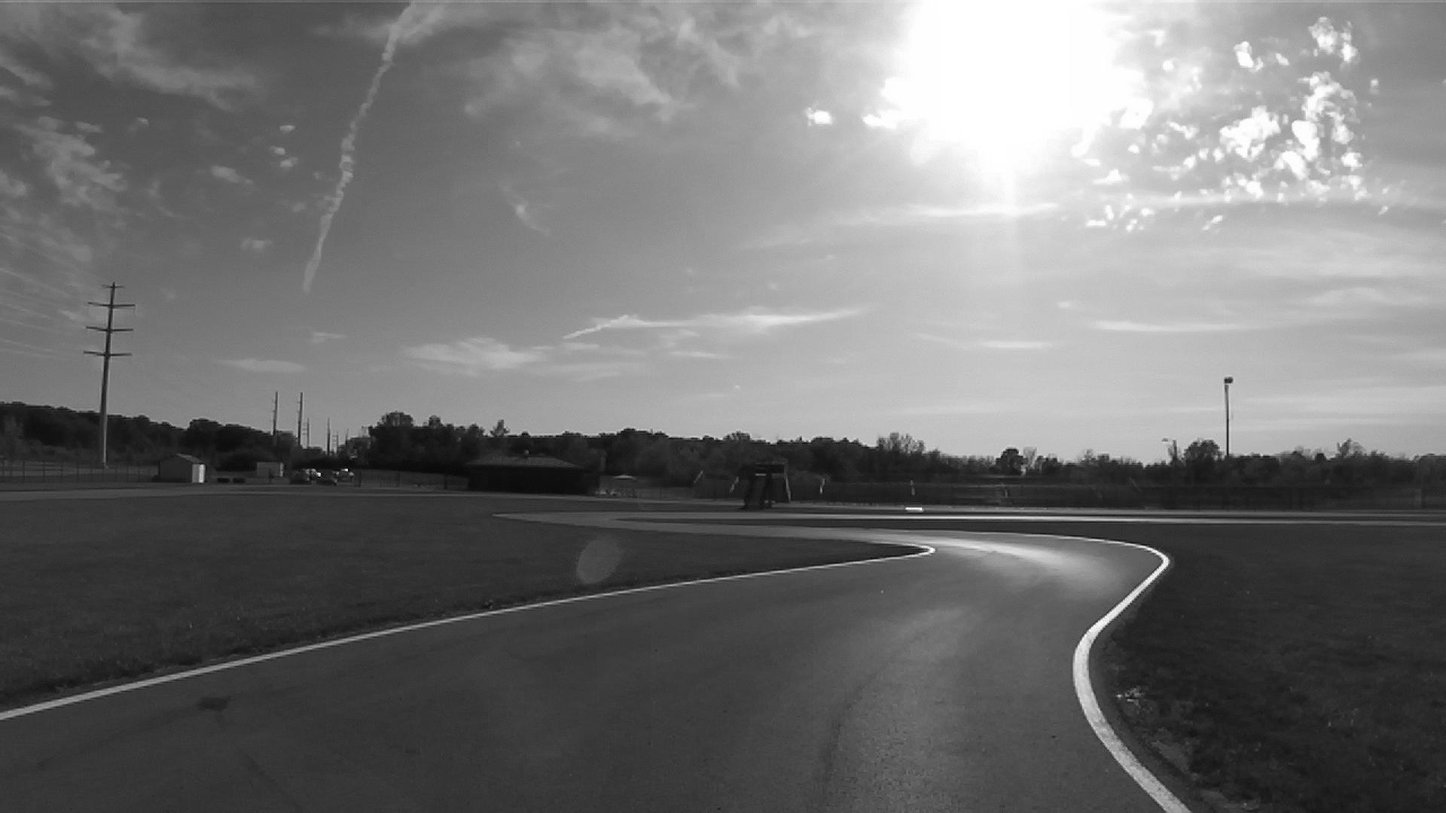white-line: (0, 545, 934, 720), (1073, 543, 1190, 812)
